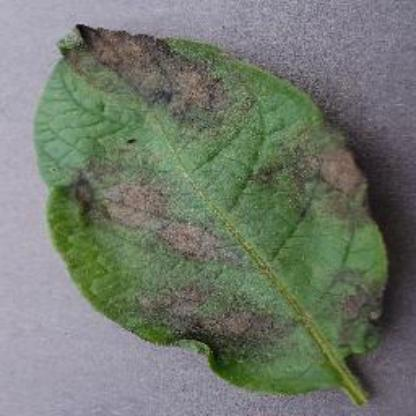Late-Blight: (40, 21, 394, 407)
